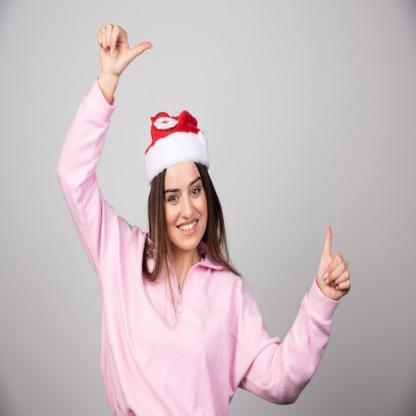thumb_up: (313, 220, 353, 304)
